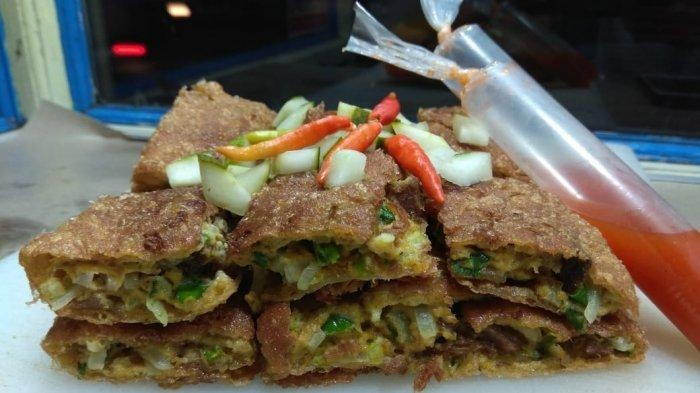martabak: (18, 77, 649, 389)
